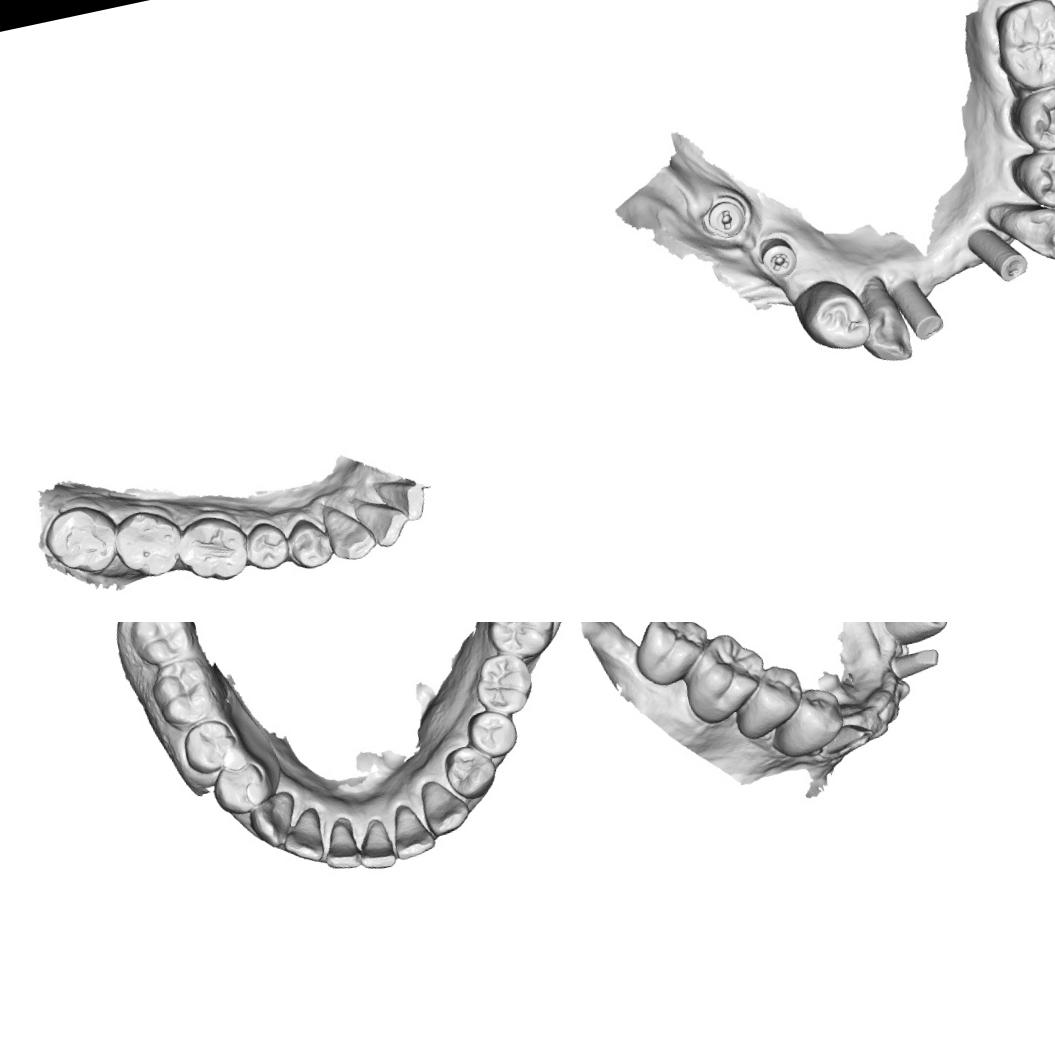abutment: (818, 718, 876, 758), (886, 644, 944, 682)
canine: (854, 295, 918, 369), (995, 192, 1055, 270), (414, 772, 474, 840), (322, 500, 380, 565), (246, 788, 306, 848)
implant: (960, 220, 1030, 290), (889, 272, 948, 346)
implant_minus: (699, 187, 756, 246)
implant_plus: (752, 224, 800, 281)
incisor: (352, 493, 414, 554), (373, 472, 431, 528), (278, 808, 328, 870), (350, 810, 398, 873), (388, 800, 436, 862), (314, 816, 363, 875)
molar: (675, 627, 774, 729), (37, 498, 125, 586), (983, 0, 1055, 98), (110, 501, 193, 584), (175, 508, 254, 589), (625, 622, 716, 691), (146, 656, 220, 732), (470, 650, 536, 719), (127, 622, 202, 669), (483, 622, 561, 664)
premolar: (762, 682, 850, 763), (726, 660, 811, 743), (795, 275, 872, 362), (210, 756, 276, 818), (439, 739, 500, 802), (1006, 81, 1055, 157), (179, 716, 240, 776), (462, 704, 521, 764), (1008, 144, 1055, 214), (283, 512, 336, 572), (240, 516, 292, 574), (877, 622, 954, 651)
